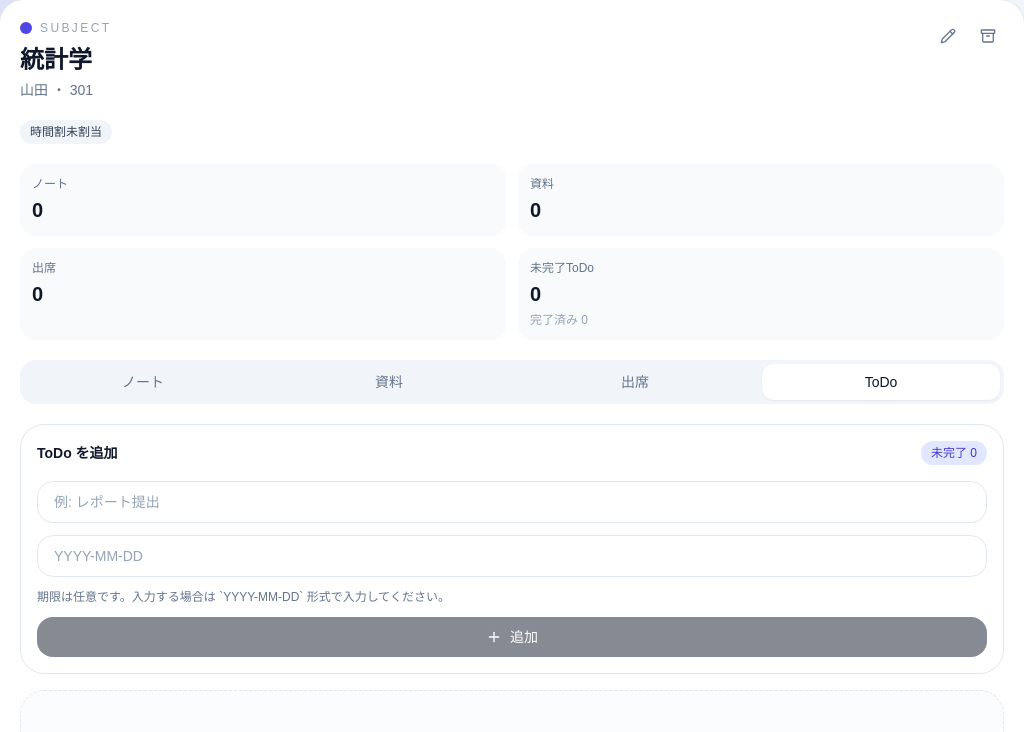
Test: SubjectDetailPanel › blocks invalid quick-add due date `2026-02-31` instead of silently dropping it
This screenshot has width=1024, height=732.
Type "レポート提出" into the field named "ToDoタイトル" at x=512, y=502, box [37,481,987,523]
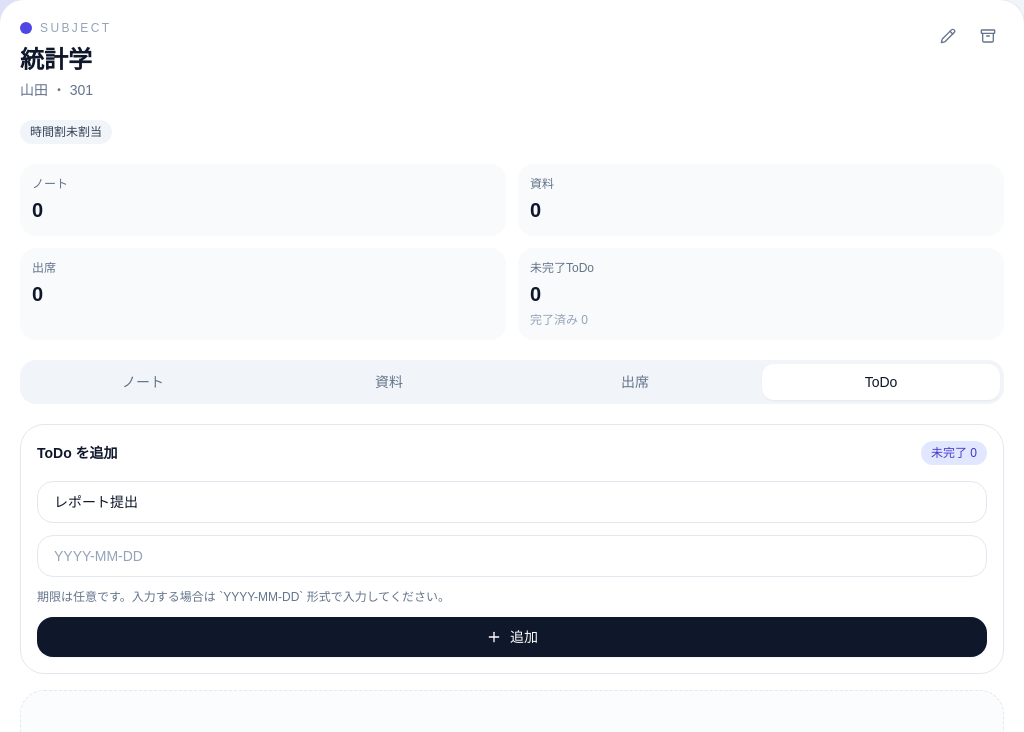
Type "2026-02-31" into the field named "ToDo期限日" at x=512, y=556, box [37,535,987,577]
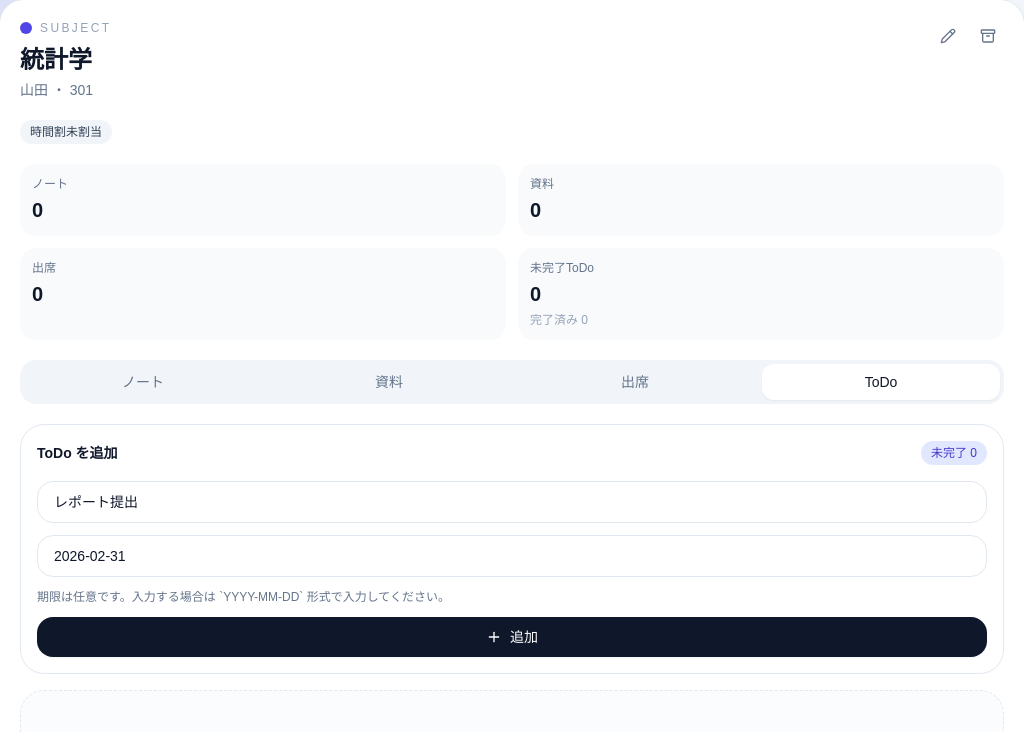
Click the button "追加" at x=512, y=637, box [37,617,987,657]
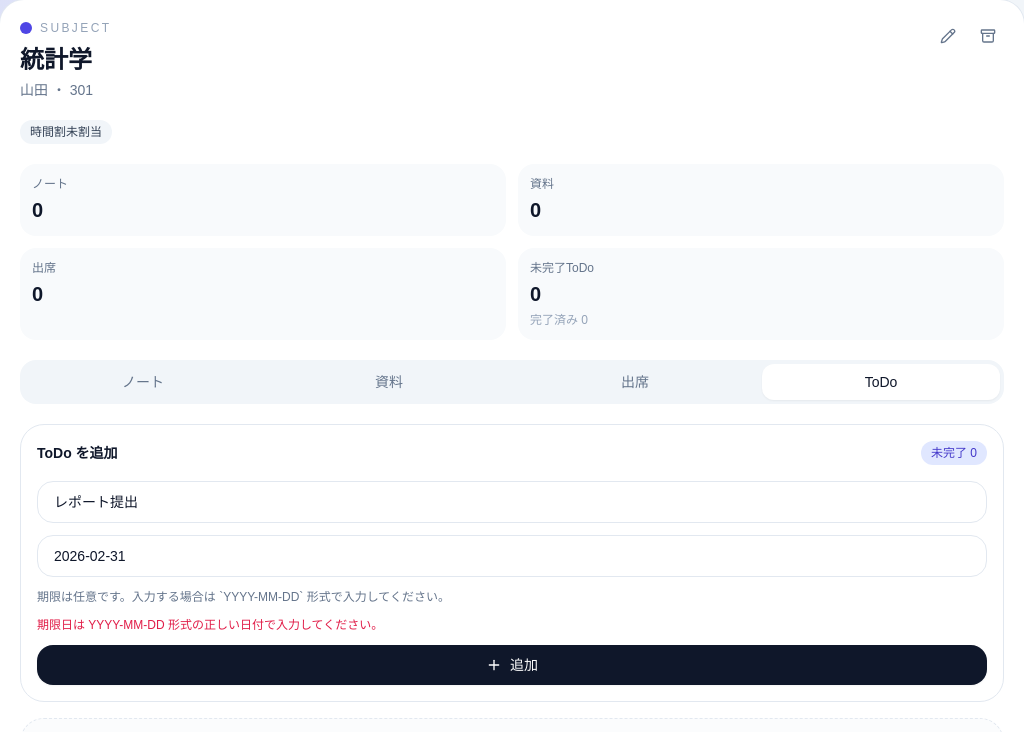
Now the text "期限日は YYYY-MM-DD 形式の正しい日付で入力してください。" is shown, box [37,618,383,632]
